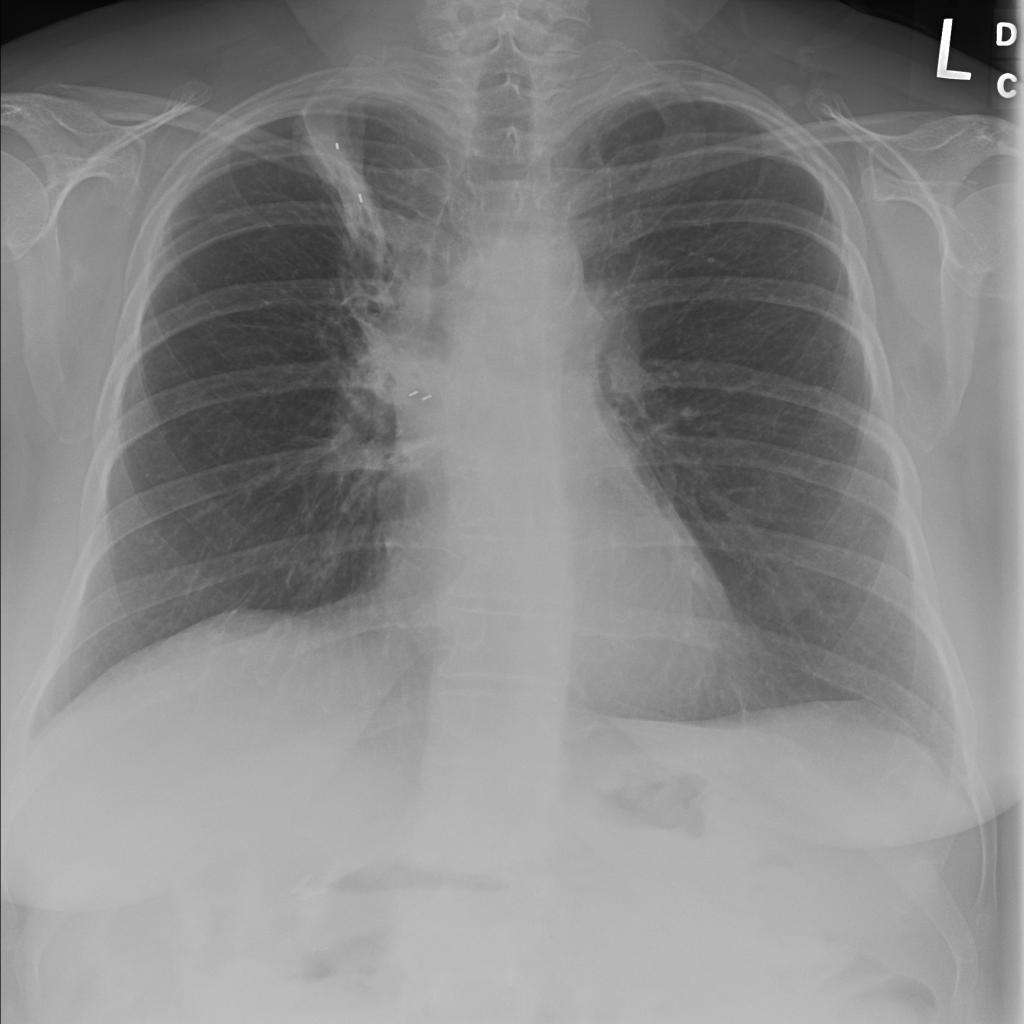Nodule: (350, 67, 396, 99), (358, 119, 386, 138)
